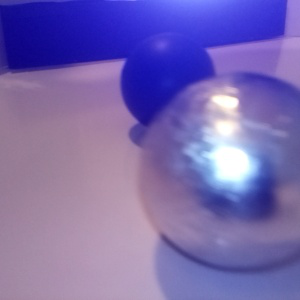alive_ball: (137, 71, 300, 271)
dead_ball: (121, 33, 217, 130)
